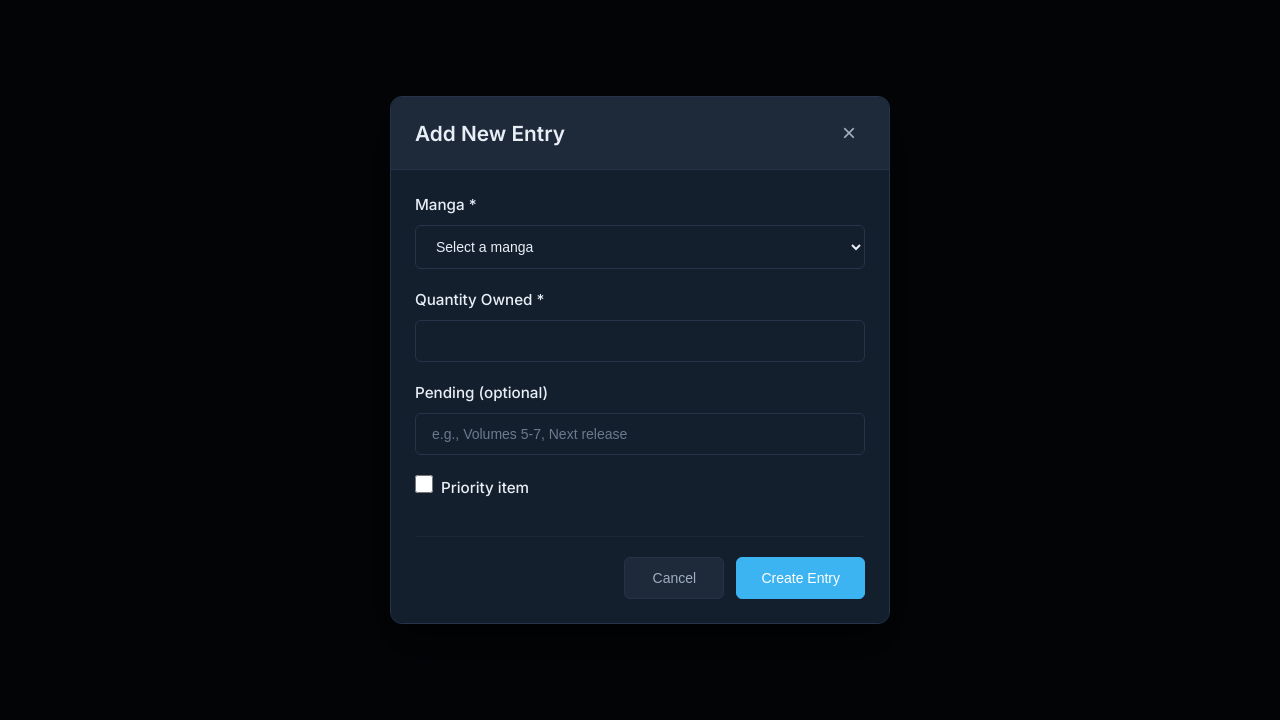
Test case: AddEntryModal: alta › muestra el mensaje de error del backend al crear
Select "Alpha (10 volumes)" in the dropdown labelled "Manga *": (640, 247) [415, 225, 865, 269]
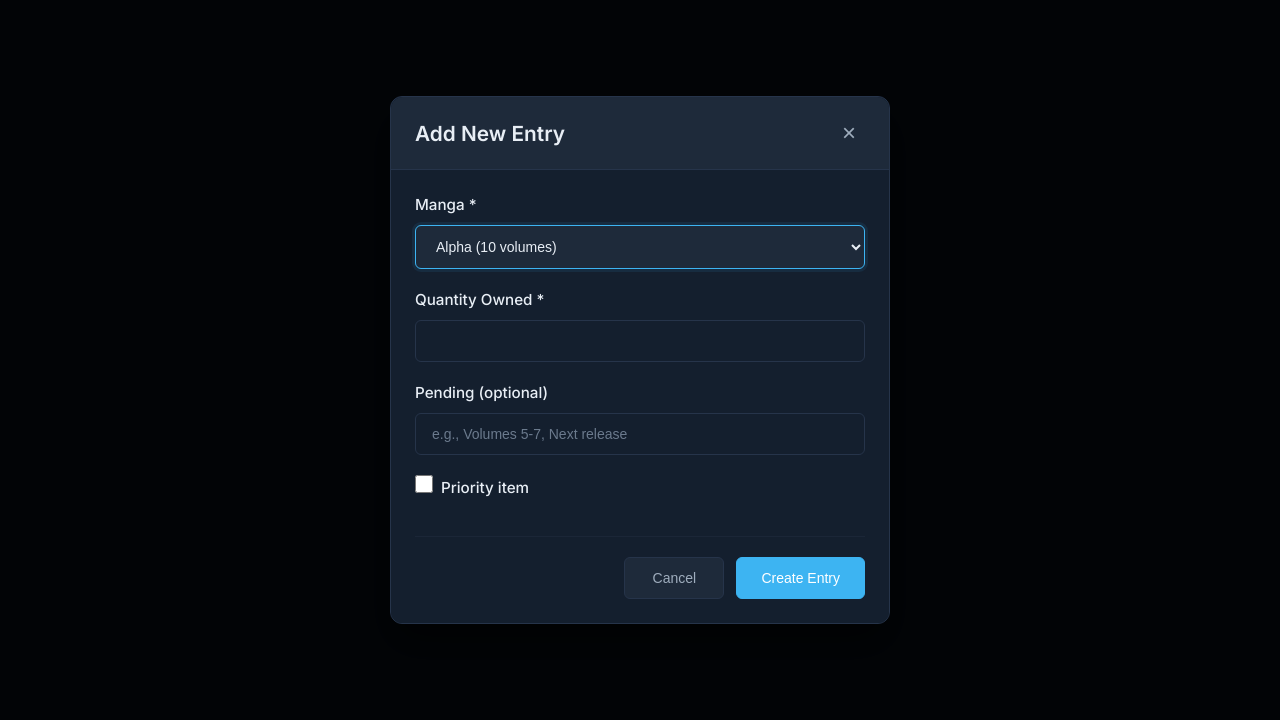
In the number field labelled "Quantity Owned *": (640, 341) [415, 320, 865, 362], type "5"
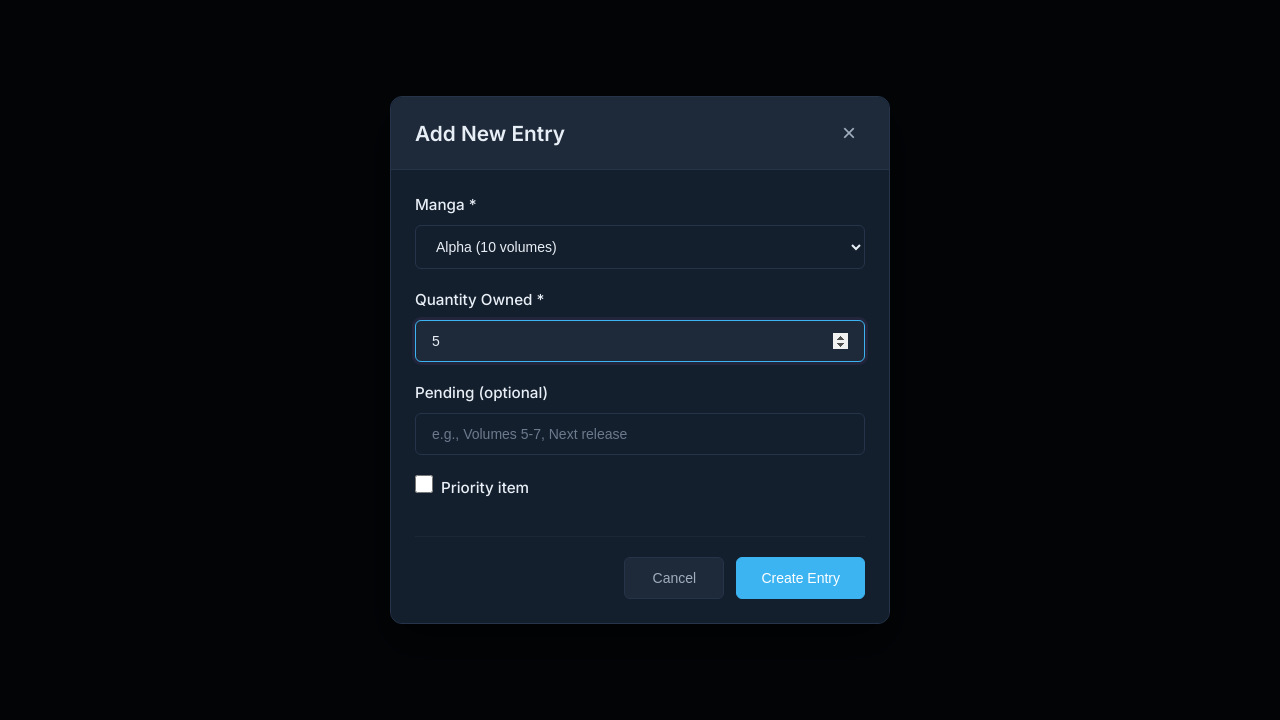
Submit the form, box [391, 170, 889, 623]
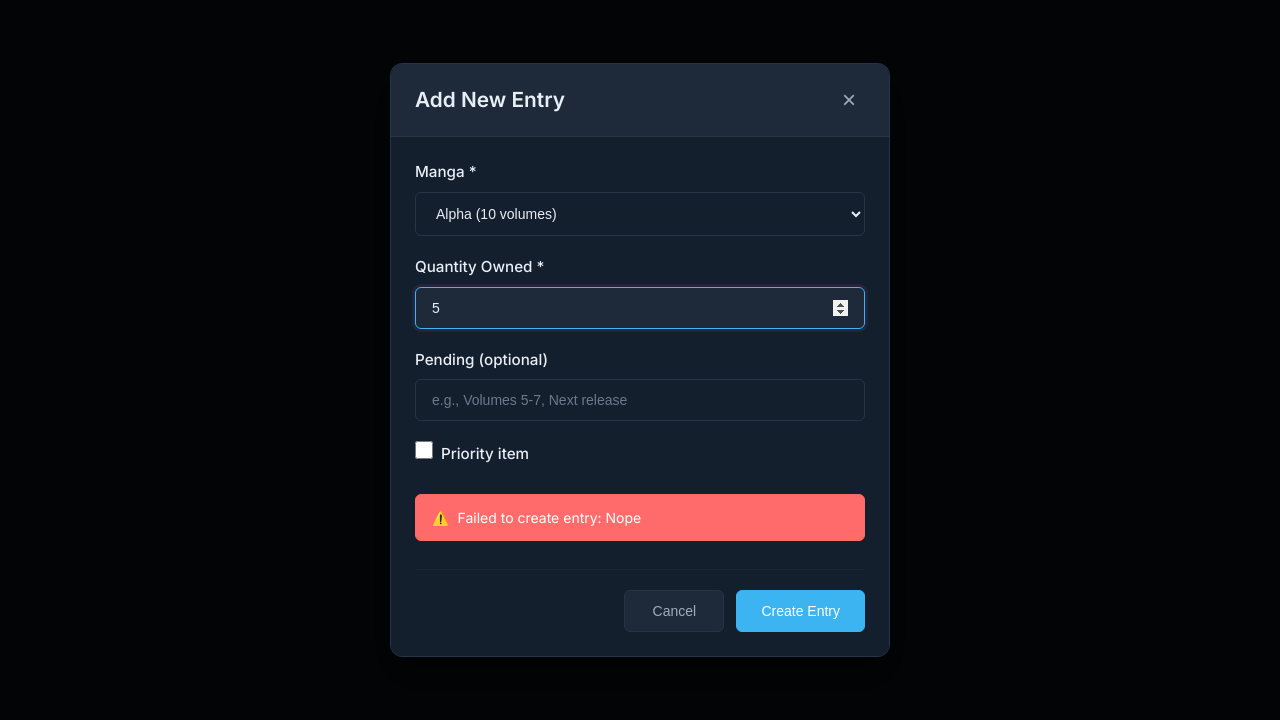
Expected: the text "Failed to create entry: Nope" is shown, [415, 494, 865, 541]
